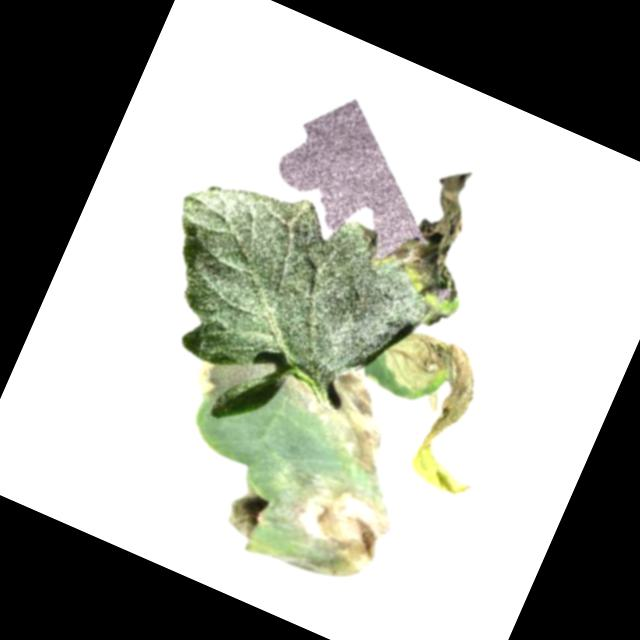Late_blight: (343, 317, 528, 505), (214, 440, 401, 602), (374, 156, 514, 328), (265, 348, 413, 480), (187, 340, 274, 419)
healthy: (125, 155, 448, 436)
